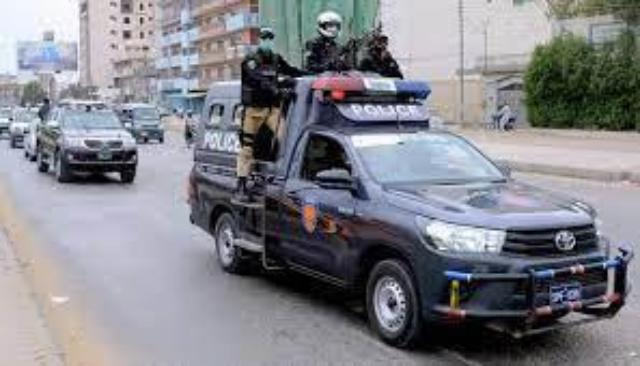police_car: (198, 71, 629, 345)
